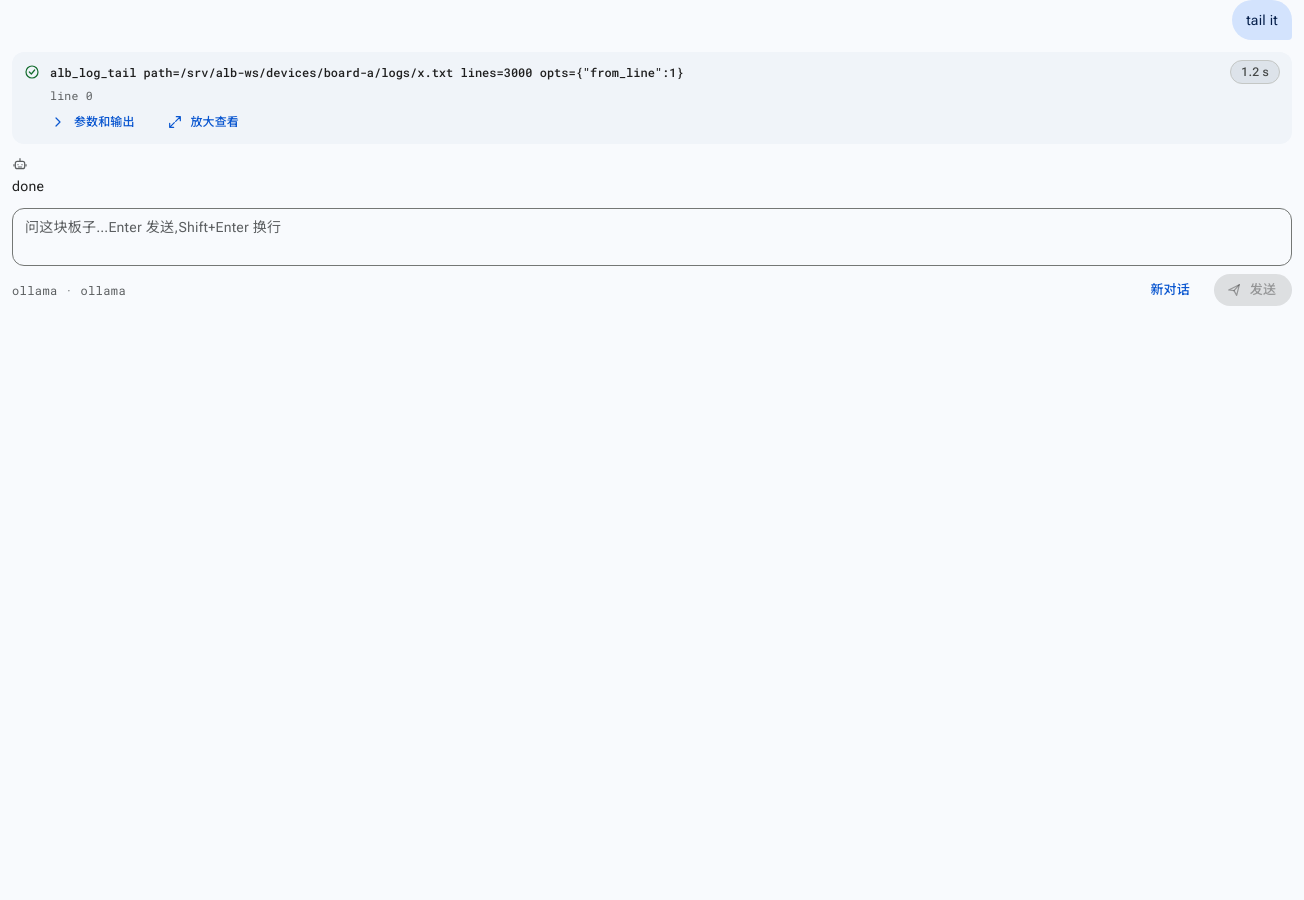
Test: tool calls › compact by default; expand shows the full arguments and the whole output; JSON and copy
Check: the text "alb_log_tail " shows "lines=3000", box [136,64,684,80]
Check: the text "1.2 s" is shown, box [1230,60,1280,84]
Click the button "参数和输出".
click(94, 122)  # box [38,108,150,136]
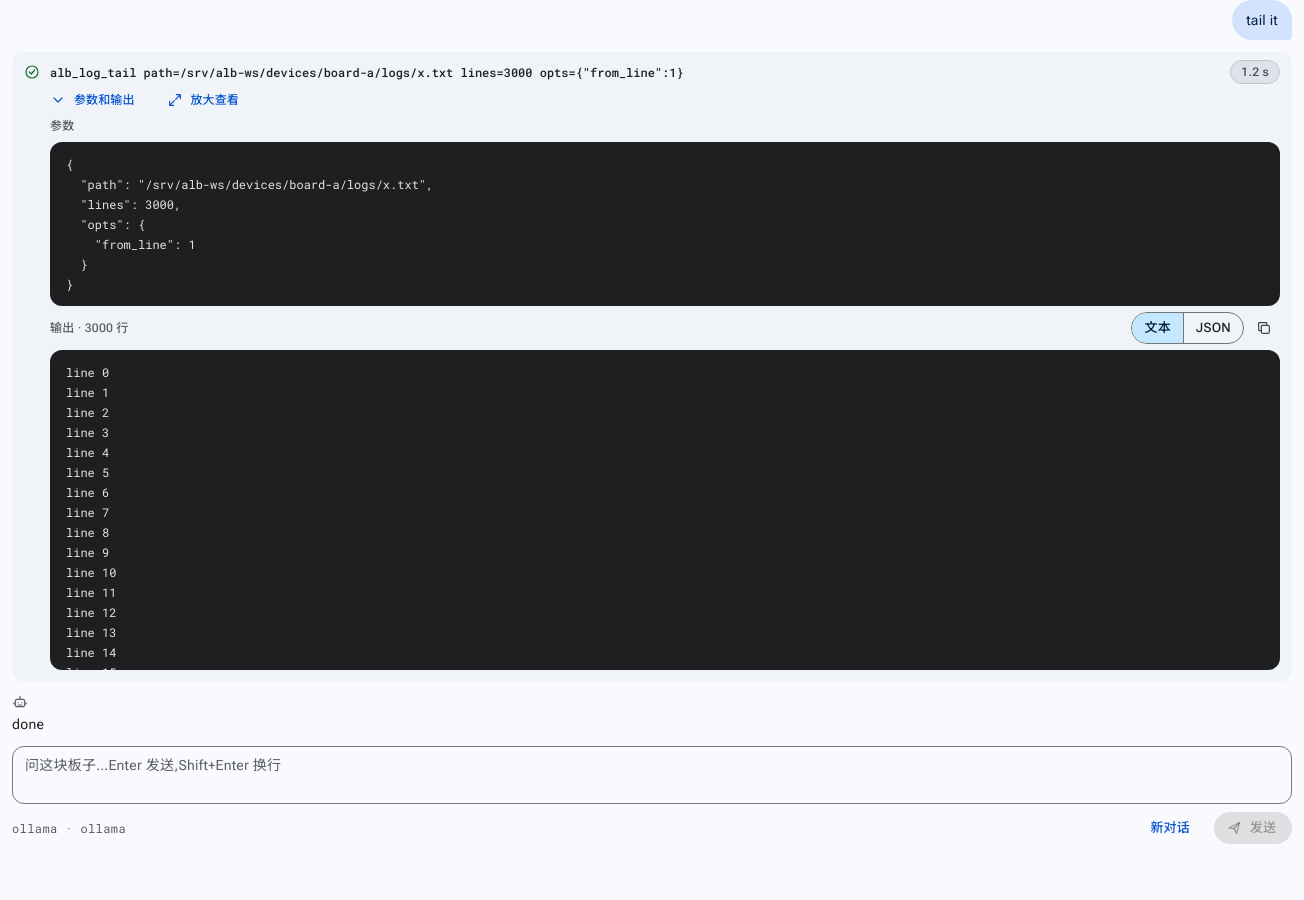
Check: the button "参数和输出" is expanded, box [38,86,150,114]
Check: the text "输出 · 3000 行" is shown, box [50,318,129,338]
Click the button "JSON".
click(1213, 328)  # box [1183,313,1243,343]
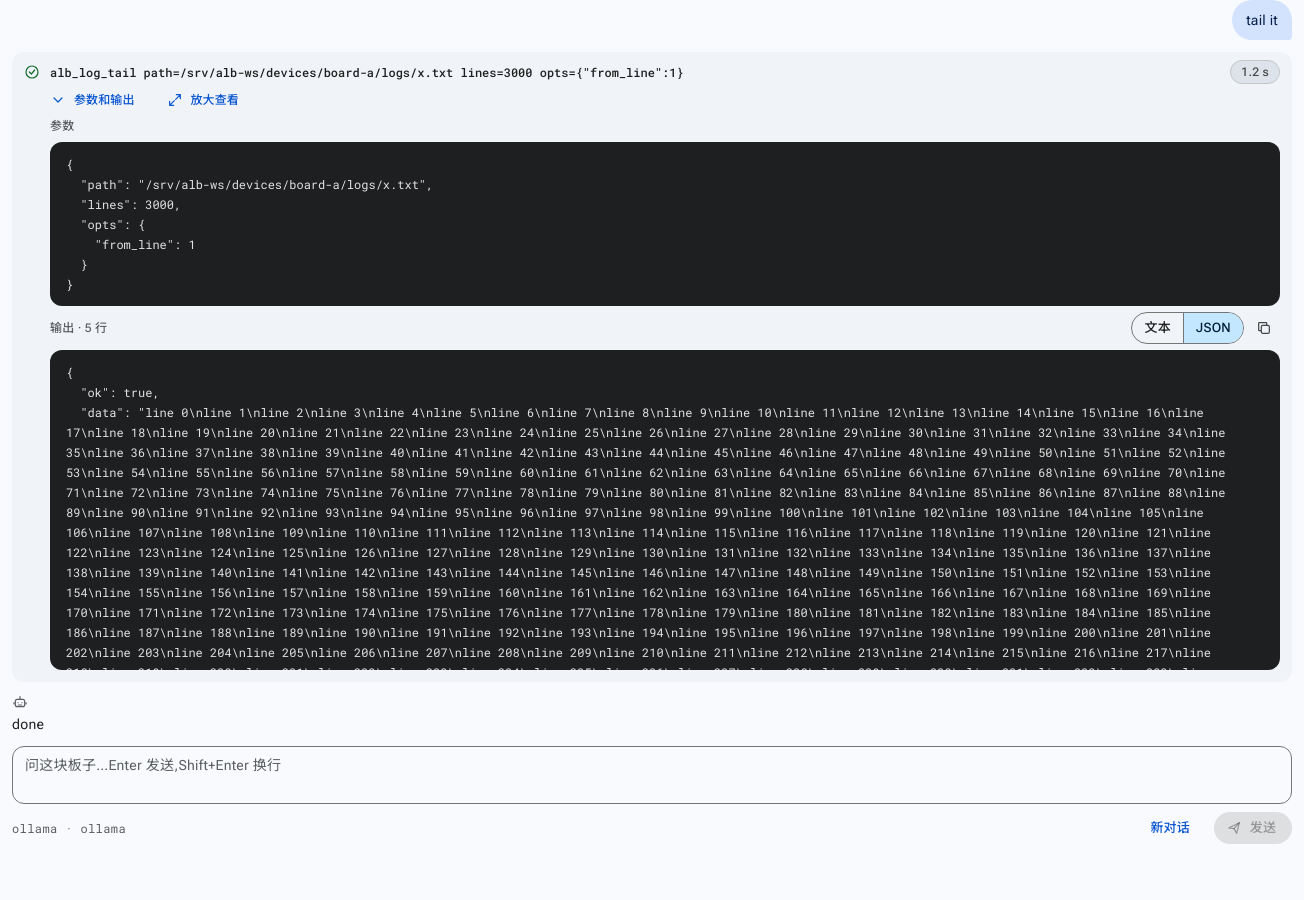
Click the button "文本".
click(1158, 328)  # box [1132,313,1183,343]
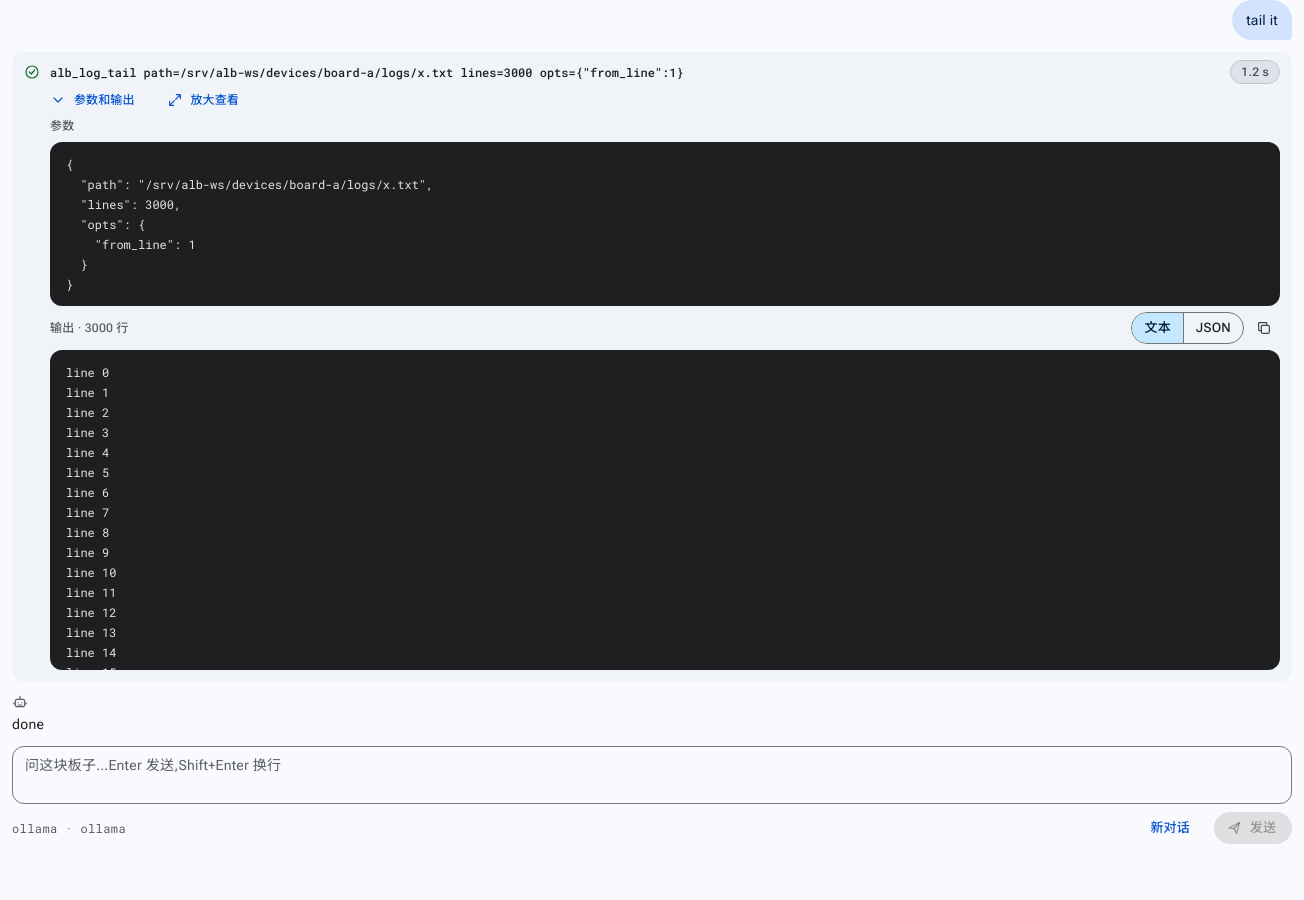
Click the button named "复制输出".
click(1264, 328)  # box [1248,312,1280,344]
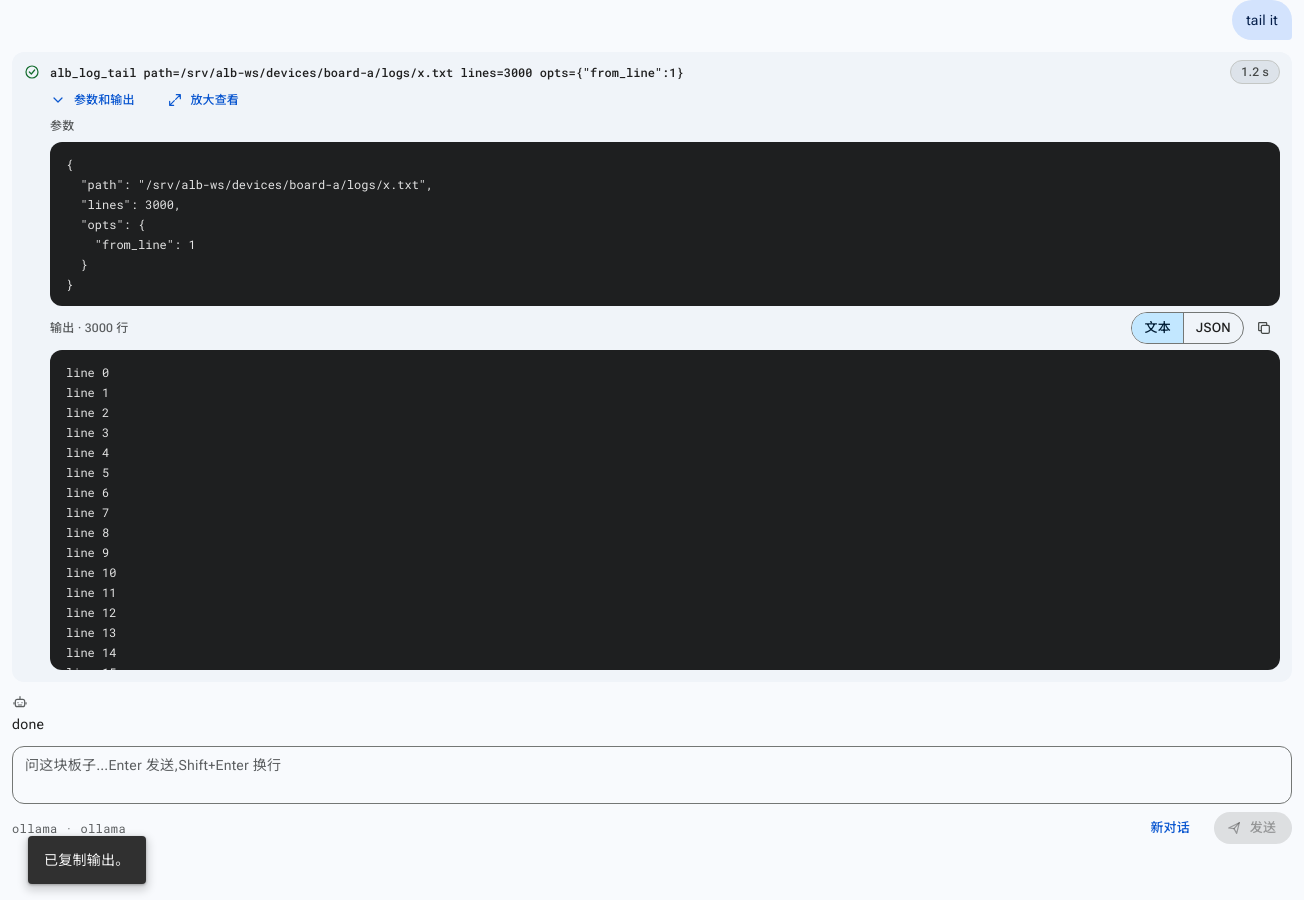
Check: the text "已复制输出。" is shown, box [28,836,146,884]
